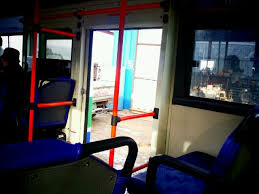exit: (83, 23, 166, 177)
